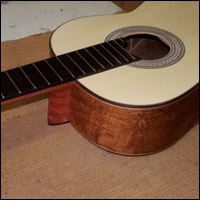guitar: (1, 3, 197, 158)
